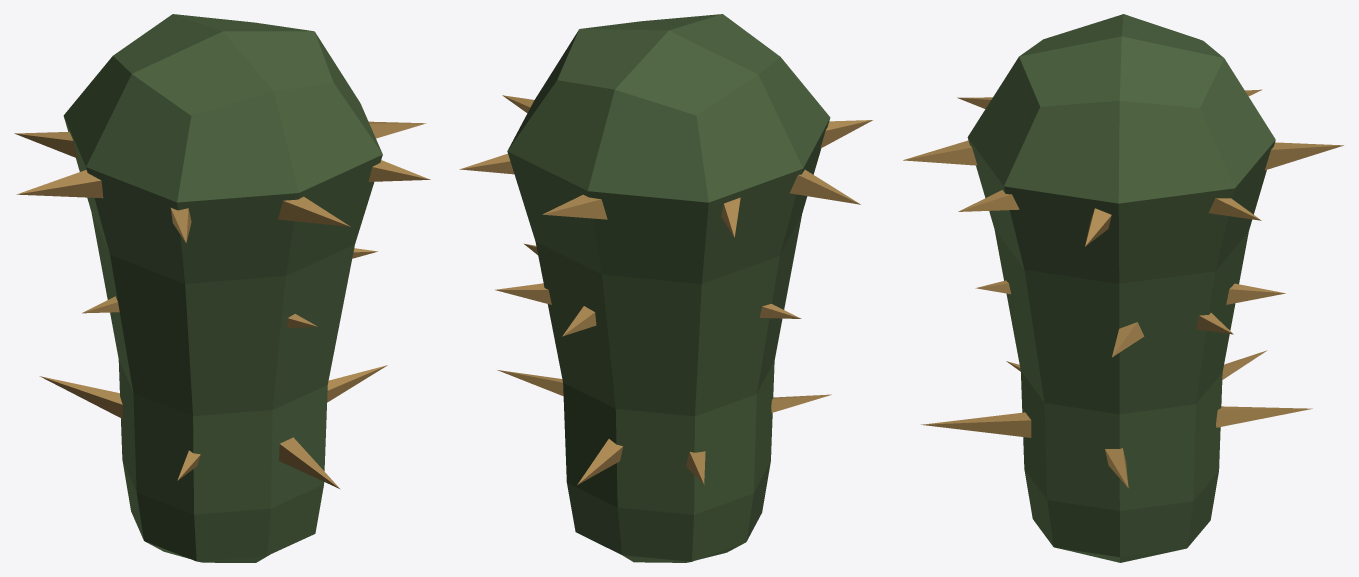
Rendered from cactus_2.gltf.
The picture shows the model from 3 angles, left to right: view 1: azimuth 30°, elevation 25°; view 2: azimuth 150°, elevation 25°; view 3: azimuth 270°, elevation 25°; orthographic projection.
Parts seen in each view (by area): view 1: cactus_2; view 2: cactus_2; view 3: cactus_2.
Boxes of the visible parts, bbox=[...] form: cactus_2: bbox=[14, 14, 430, 562]; cactus_2: bbox=[459, 14, 872, 562]; cactus_2: bbox=[903, 14, 1343, 562].
Size of the model in its own units: 0.2978 by 0.3779 by 0.3011.
1 material, 1 textured.
